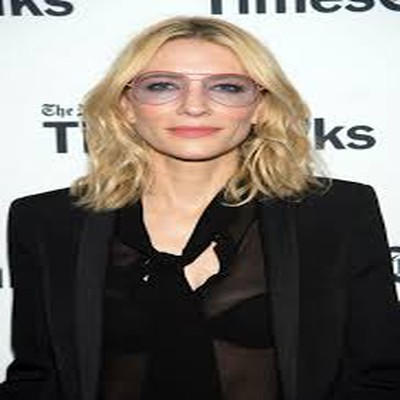eywear: (126, 54, 282, 120)
